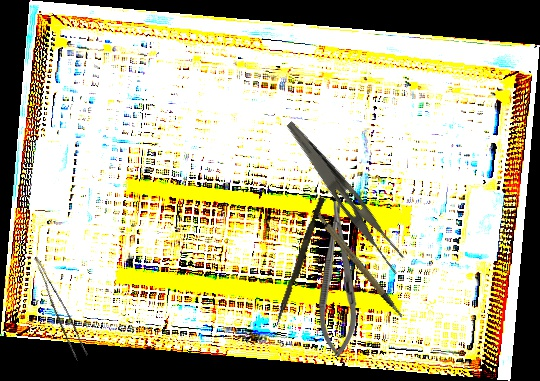Dressing Forceps: (269, 119, 417, 278)
Needle Holder: (319, 201, 357, 356)
Pusher: (274, 195, 325, 330)
Scalpel Handle: (309, 198, 405, 331)
Tissue Forceps: (23, 256, 91, 361)
